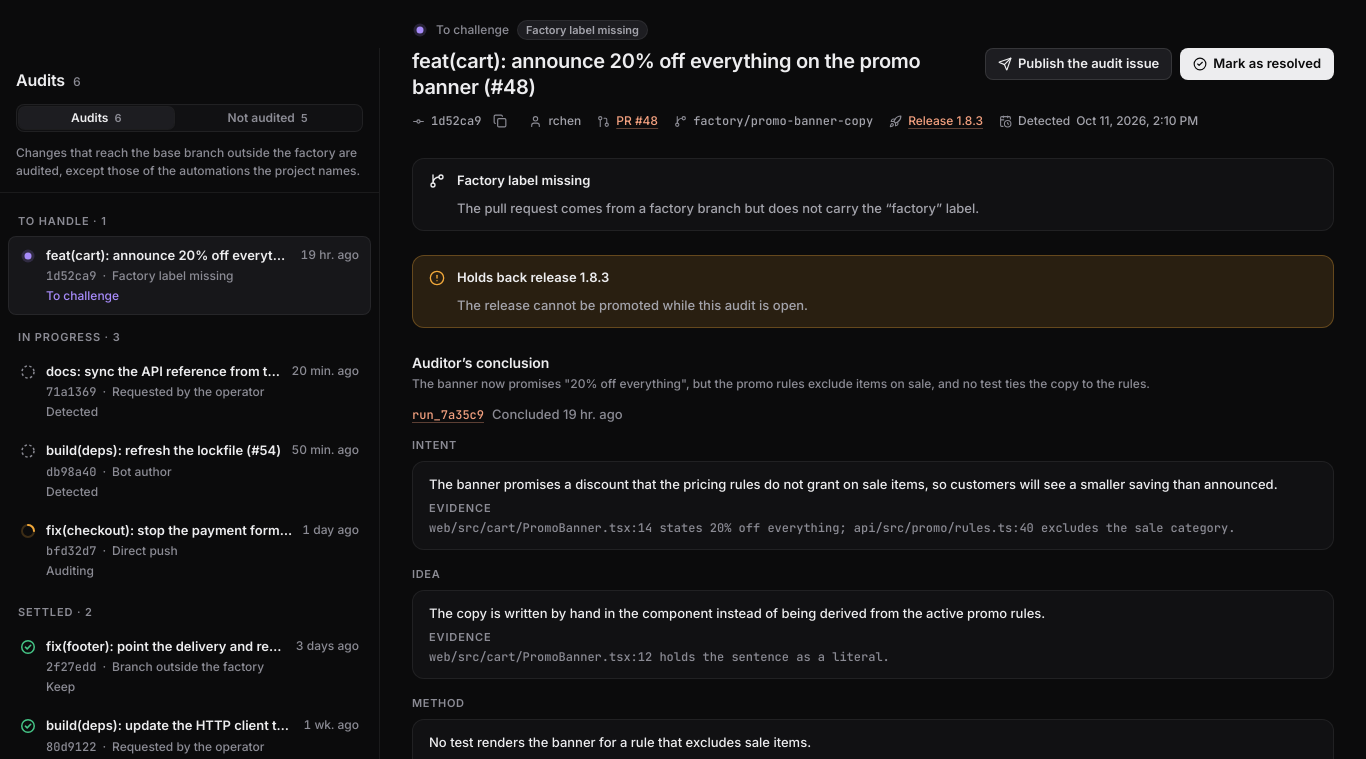
AuditsView changes not audited › labels each change as not audited, with the automation that made it
Click the radio button labelled "Not audited 5" at (268, 118), box [176, 107, 360, 129]
(page scrolled)
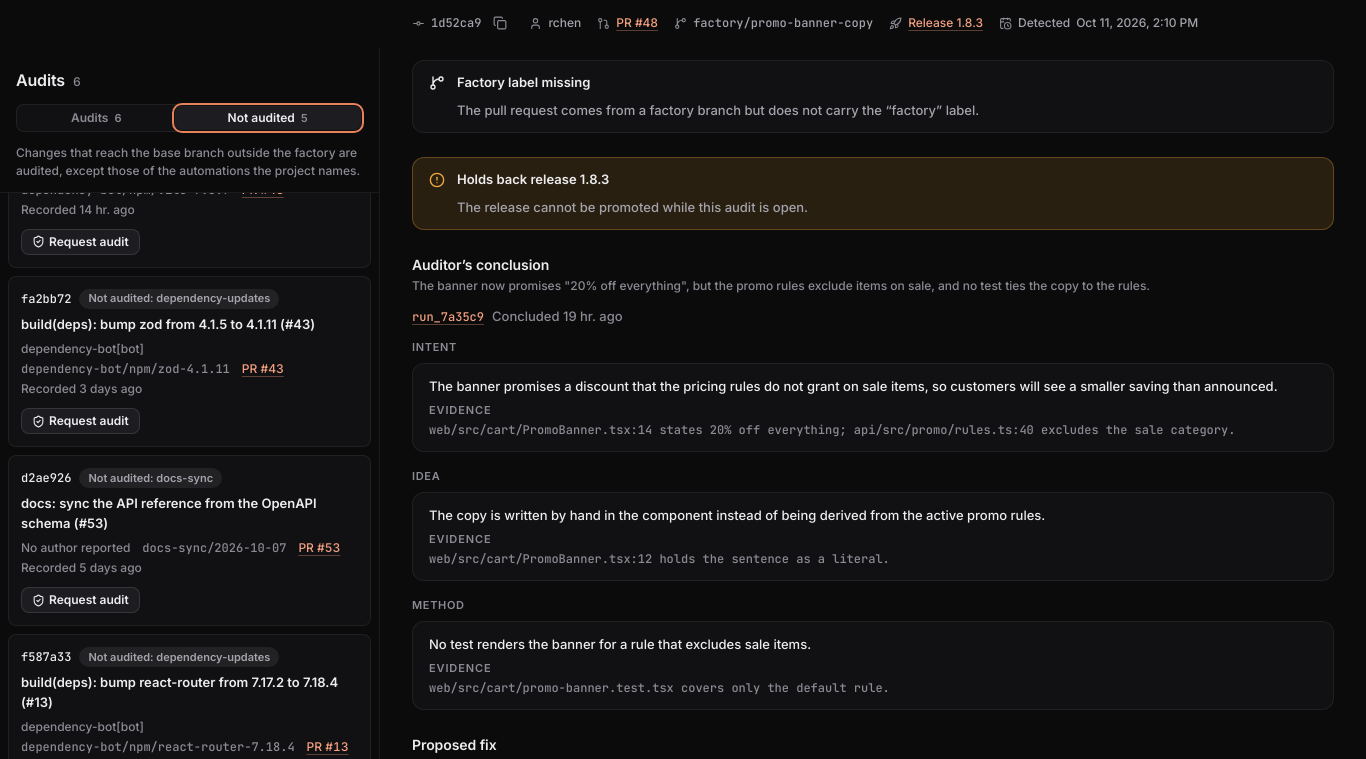
Now the text "Not audited: " is shown 5 times
